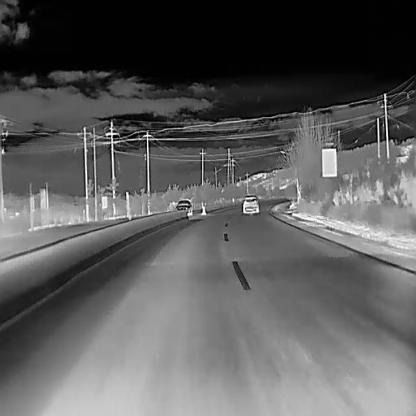car: (242, 195, 259, 212), (174, 199, 191, 213)
